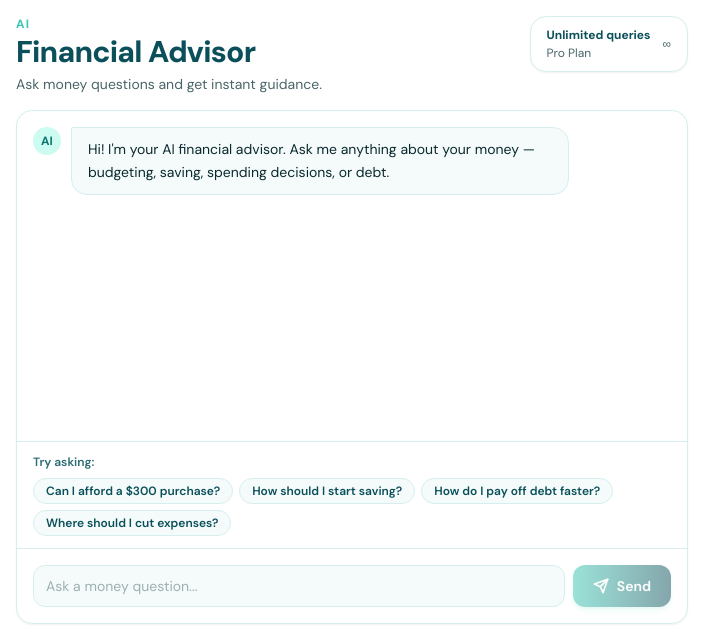
Test: AdvisorPage — chat flow › shows an error and a fallback assistant message on a network failure
This screenshot has width=705, height=641.
Type "hi" into the field with placeholder "Ask a money question..." at (299, 586), box [33,565,565,607]
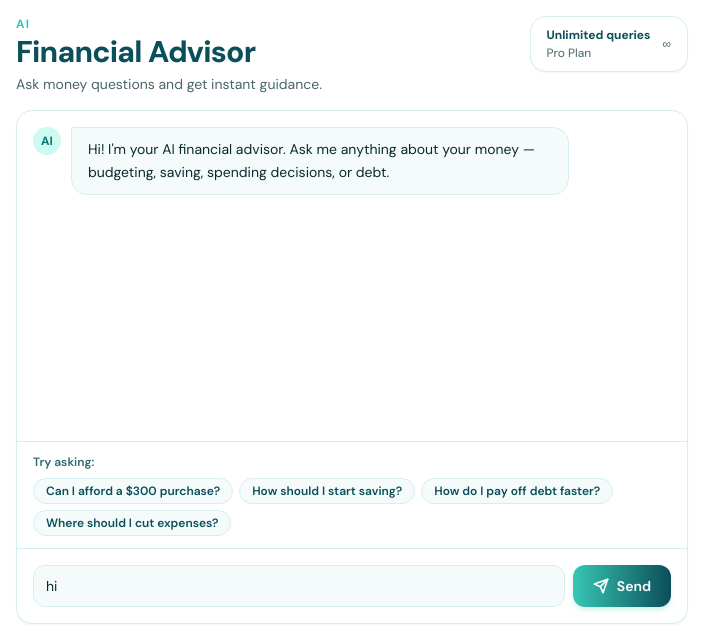
Submit the form, box [33,565,671,607]
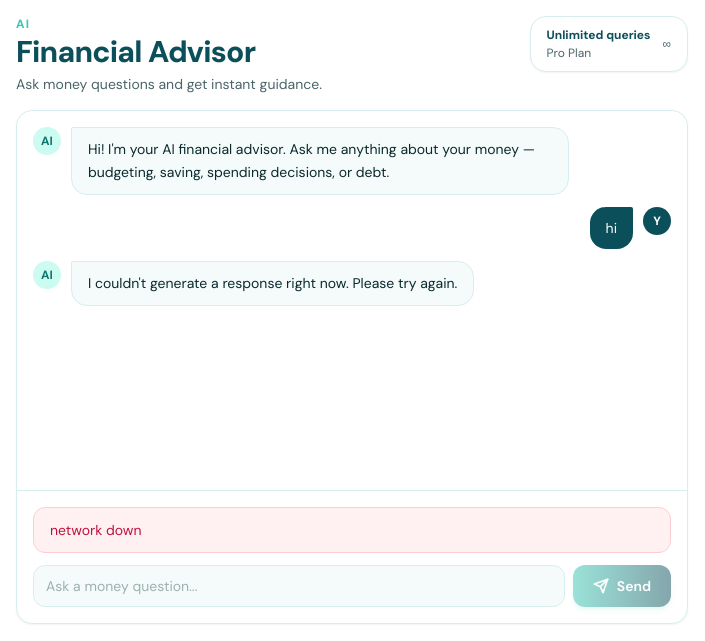
Result: the text "I couldn't generate a response right now. Please try again." is shown at [88,272,457,295]
